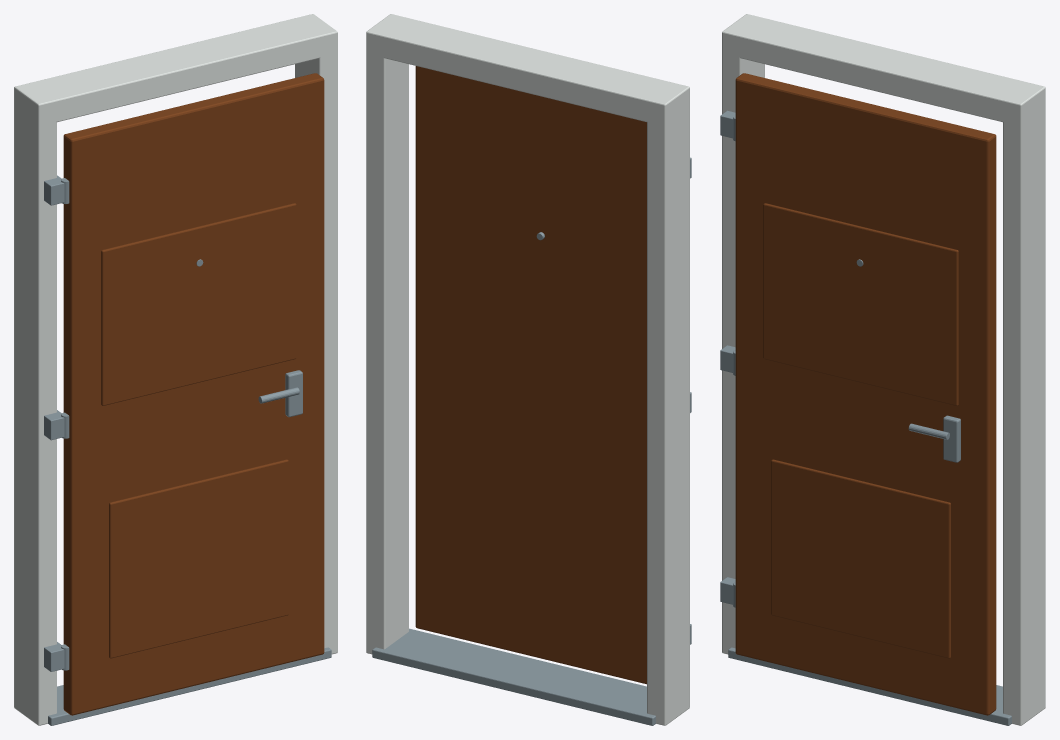
The model's file is edited.glb.
3 renders of one model, left to right at view 1: azimuth 30°, elevation 25°; view 2: azimuth 150°, elevation 25°; view 3: azimuth 330°, elevation 25°, orthographic.
Visible parts, largest first — view 1: DOOR_Leaf, DOOR_Inset.001, DOOR_Inset, FRAME_Jamb, FRAME_Header, FRAME_Jamb.001, THRESHOLD, HANDLE_Plate, HINGE_Mount.002, HINGE_Mount.001; view 2: DOOR_Leaf, FRAME_Jamb, FRAME_Jamb.001, FRAME_Header, THRESHOLD; view 3: DOOR_Leaf, DOOR_Inset.001, DOOR_Inset, FRAME_Jamb.001, FRAME_Header, FRAME_Jamb, THRESHOLD, HANDLE_Plate.
Boxes of the visible parts, left/top/right/bottom form: DOOR_Leaf: left=63, top=73, right=324, bottom=715; DOOR_Inset.001: left=101, top=203, right=296, bottom=405; DOOR_Inset: left=109, top=459, right=288, bottom=658; FRAME_Jamb: left=14, top=87, right=56, bottom=725; FRAME_Header: left=14, top=14, right=337, bottom=125; FRAME_Jamb.001: left=295, top=14, right=337, bottom=654; THRESHOLD: left=48, top=647, right=331, bottom=725; HANDLE_Plate: left=285, top=370, right=302, bottom=417; HINGE_Mount.002: left=44, top=175, right=64, bottom=205; HINGE_Mount.001: left=44, top=410, right=64, bottom=440; DOOR_Leaf: left=415, top=66, right=646, bottom=684; FRAME_Jamb: left=647, top=87, right=689, bottom=725; FRAME_Jamb.001: left=366, top=14, right=408, bottom=654; FRAME_Header: left=366, top=14, right=689, bottom=125; THRESHOLD: left=372, top=628, right=655, bottom=725; DOOR_Leaf: left=735, top=73, right=996, bottom=715; DOOR_Inset.001: left=763, top=203, right=958, bottom=405; DOOR_Inset: left=771, top=459, right=950, bottom=658; FRAME_Jamb.001: left=1003, top=87, right=1045, bottom=725; FRAME_Header: left=722, top=14, right=1045, bottom=125; FRAME_Jamb: left=722, top=14, right=764, bottom=654; THRESHOLD: left=728, top=647, right=1011, bottom=725; HANDLE_Plate: left=943, top=415, right=960, bottom=462.
Size of the model in its own units: 1.11 by 2.2 by 0.297.
